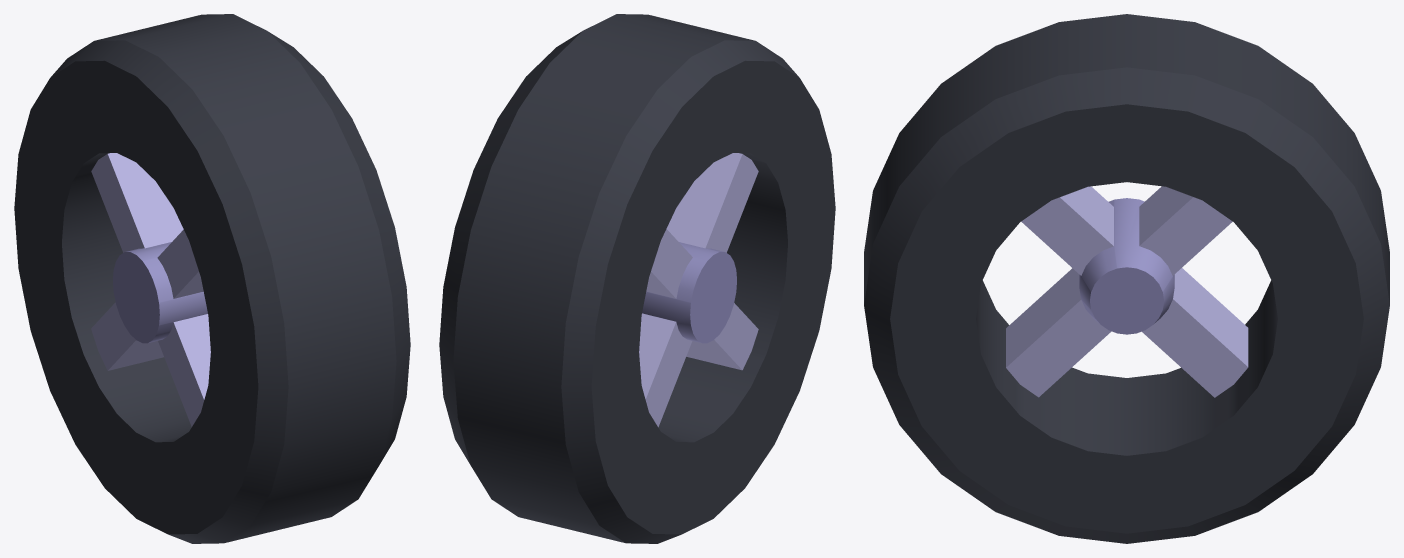
The model's file is LeftWheel.fbx.
3 views of the same model, side by side, from view 1: azimuth 30°, elevation 25°; view 2: azimuth 150°, elevation 25°; view 3: azimuth 270°, elevation 25° (orthographic).
Parts seen in each view (by area): view 1: mergedBlocks; view 2: mergedBlocks; view 3: mergedBlocks.
Boxes of the visible parts, x1,y1,x2,y2 form: mergedBlocks: (14, 14, 410, 543); mergedBlocks: (439, 14, 835, 543); mergedBlocks: (864, 14, 1389, 543).
Bounding box in the file's own units: 21.56 × 61.61 × 61.61.
